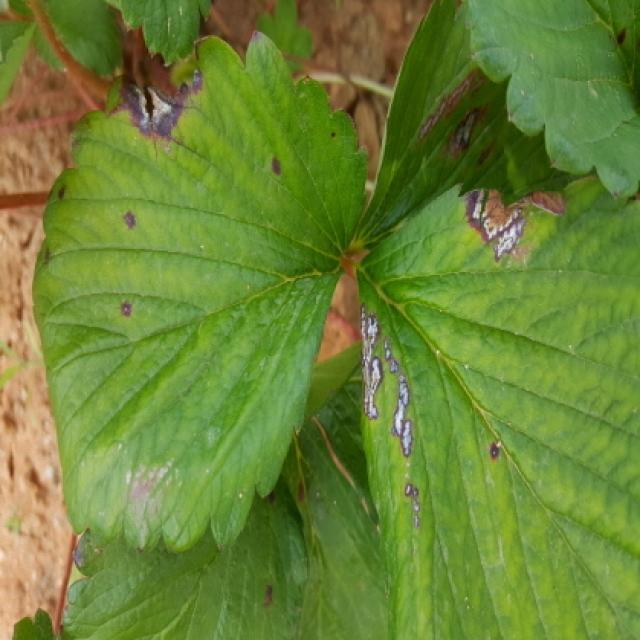Leaf Spot: (32, 24, 368, 552), (353, 174, 638, 638), (61, 338, 386, 638), (347, 0, 638, 250)
